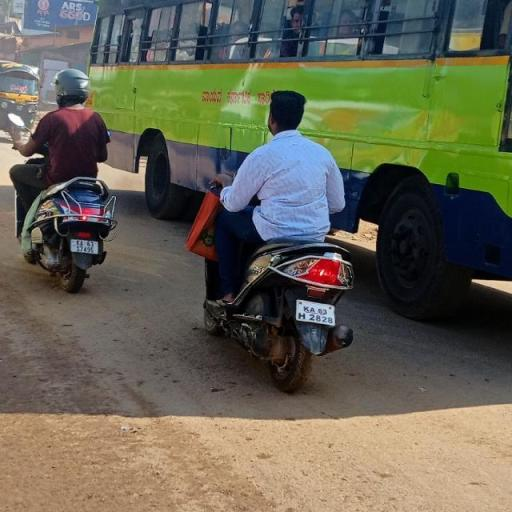bike: (184, 86, 384, 391)
numberplate: (292, 297, 342, 330)
withouthelmet: (268, 91, 306, 133)
